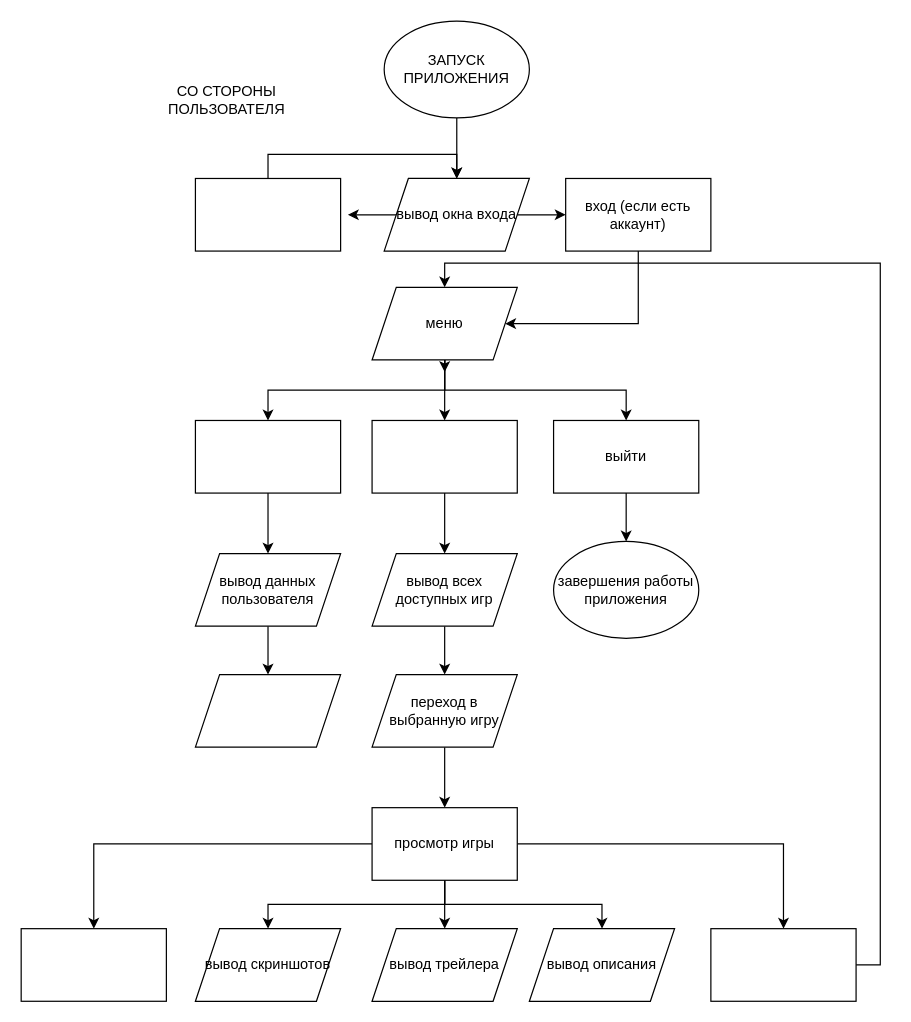
The diagram is 911 pixels wide and 1022 high, and some of its shapes have lost their labels. The centre of each missing label's shape, as x and y in pixels:
"вкладка с играми" belongs at (x=444, y=456).
"кнопка назад" belongs at (x=783, y=964).
"кнопка с ссылкой на игру для скачивания" belongs at (x=93, y=964).
"профиль" belongs at (x=267, y=456).
"регистрация (если нет аккаунта)" belongs at (x=267, y=214).
"смена фото профиля" belongs at (x=267, y=710).
